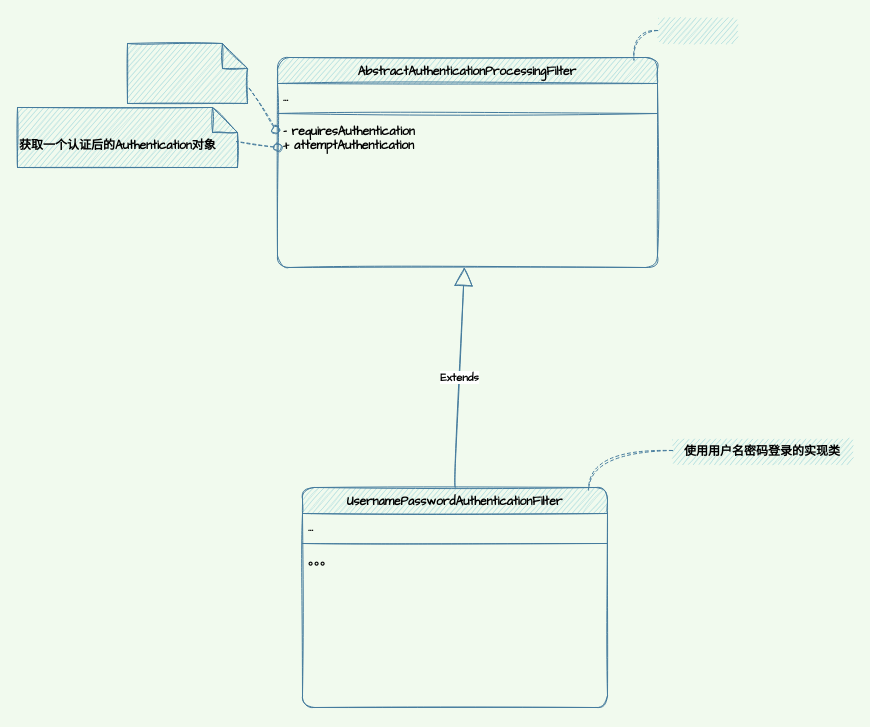
The diagram is 870 pixels wide and 727 high, and some of its shapes have lost their labels. The shapes that lost their labels are listed below. From the top down, each one's centre as x and y in pixels, then its label:
At point (697, 30): "处理身份认证".
At point (187, 73): "判断是不是登录认证".
